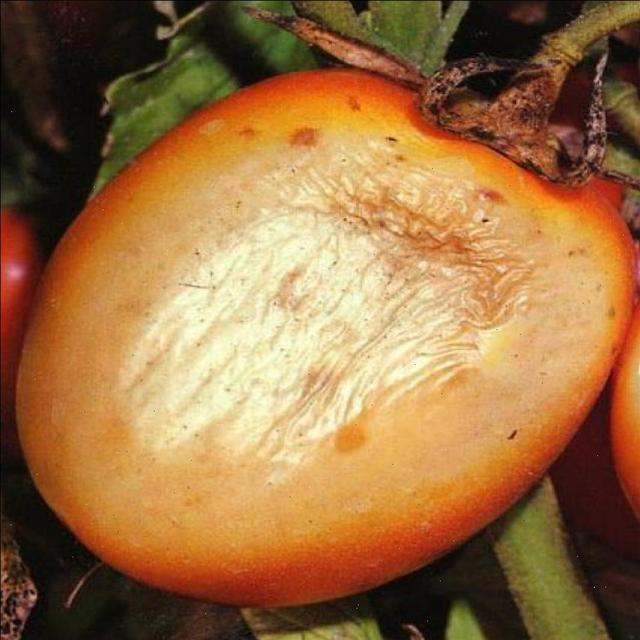Sunscald Fruit: (76, 83, 340, 372)
